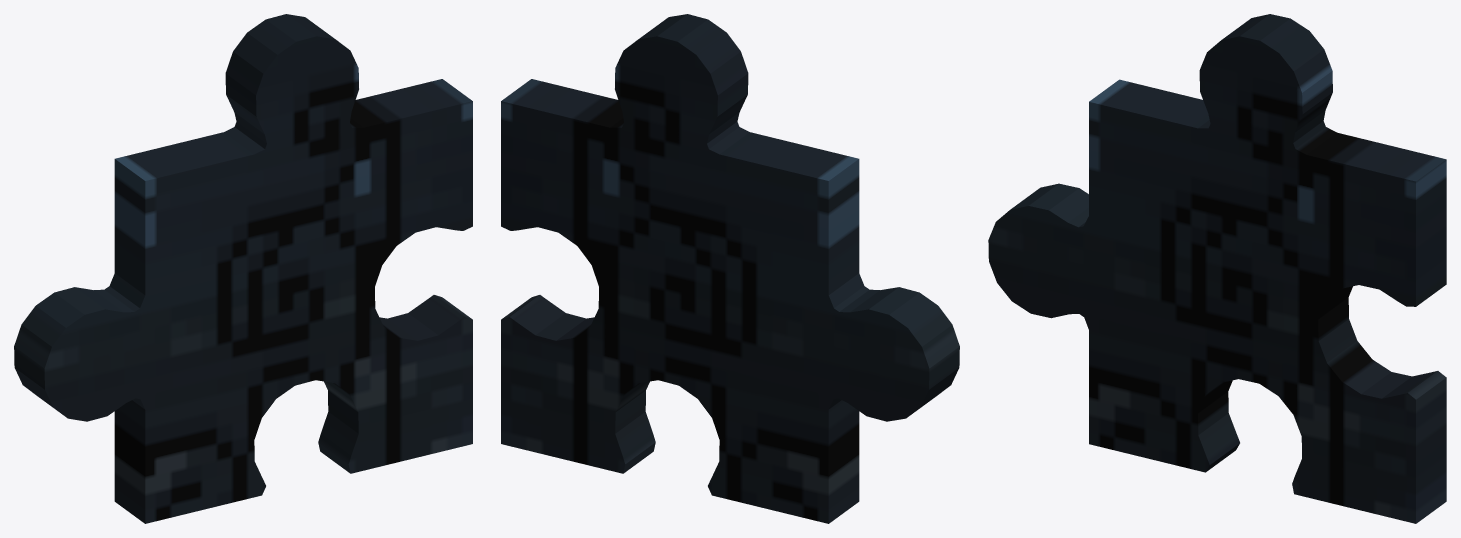
File: Pieces_5_012.fbx
The picture shows the model from 3 angles, left to right: view 1: azimuth 30°, elevation 25°; view 2: azimuth 150°, elevation 25°; view 3: azimuth 330°, elevation 25°; orthographic projection.
Visible parts, largest first — view 1: Pieces 5.012; view 2: Pieces 5.012; view 3: Pieces 5.012.
Part boxes in pixels (x1=…): Pieces 5.012: x1=14, y1=14, x2=472, y2=523; Pieces 5.012: x1=501, y1=14, x2=959, y2=523; Pieces 5.012: x1=988, y1=14, x2=1446, y2=523.
Bounding box in the file's own units: 105 × 105 × 12.98.
